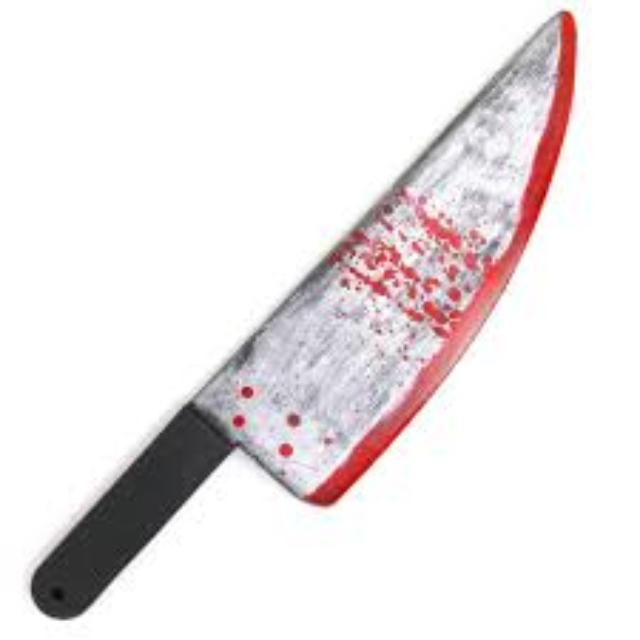Knife: (29, 6, 577, 620)
